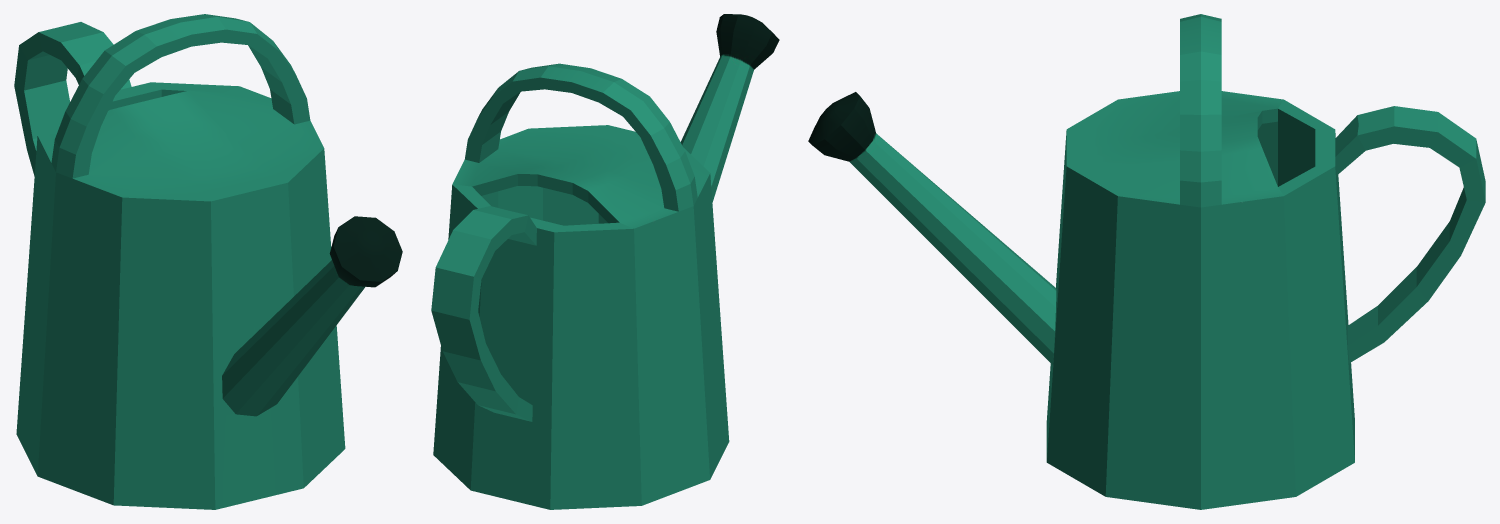
The model's file is RegaderaVersNormal.fbx.
The picture shows the model from 3 angles, left to right: view 1: azimuth 30°, elevation 25°; view 2: azimuth 150°, elevation 25°; view 3: azimuth 270°, elevation 25°; orthographic projection. The views are drawn at different scales.
Visible parts, largest first — view 1: Regadera; view 2: Regadera; view 3: Regadera.
Boxes of the visible parts, x1,y1,x2,y2 form: Regadera: [14, 14, 402, 509]; Regadera: [431, 14, 779, 509]; Regadera: [808, 14, 1485, 509].
Size of the model in its own units: 17.33 by 24.23 by 36.24.
